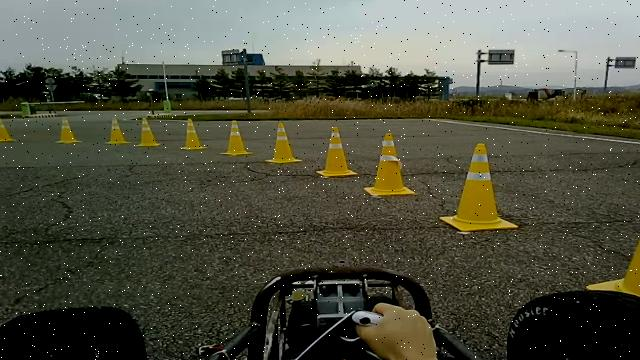yellow cone: (438, 142, 518, 232), (585, 204, 640, 302), (363, 132, 415, 196), (315, 126, 358, 178), (264, 122, 302, 163), (219, 119, 253, 156), (178, 118, 207, 150), (135, 117, 161, 146), (104, 117, 131, 144), (55, 117, 81, 143), (0, 116, 16, 142)
